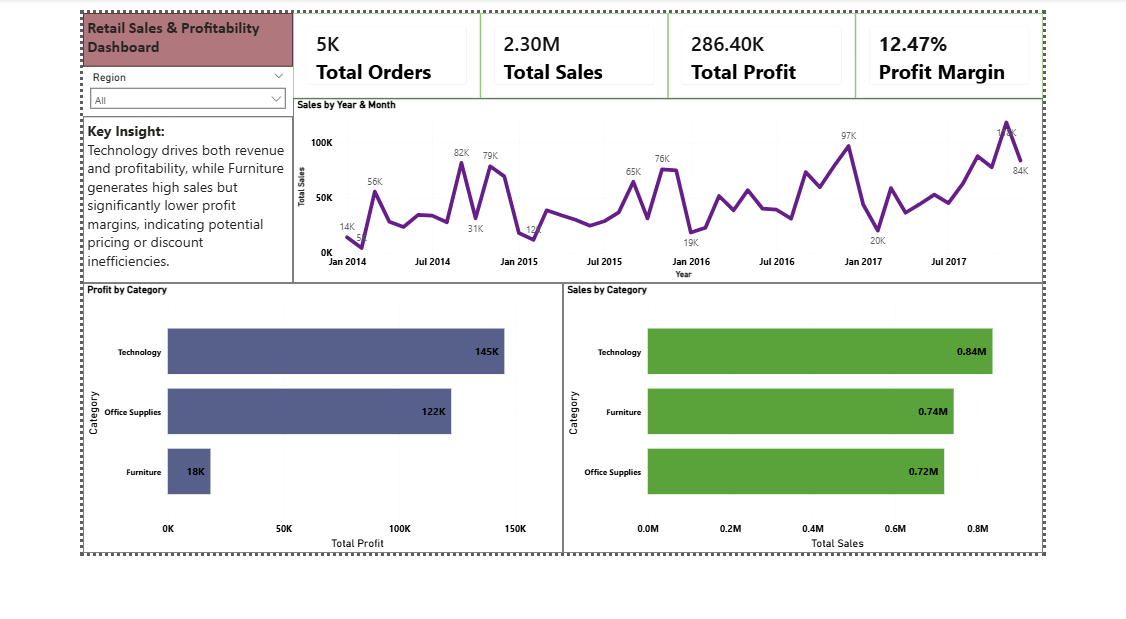

What the dashboard file says about the page in this screenshot:
{"tool":"powerbi","page":{"name":"Sales Overview","canvas":[1280,720],"ordinal":0},"visuals":[{"type":"cardVisual","fields":{"Data":["Superstore.Total Orders"]},"box":[280,0,250,114],"z":0},{"type":"cardVisual","fields":{"Data":["Superstore.Total Profit"]},"box":[780,0,250,114],"z":1000},{"type":"cardVisual","fields":{"Data":["Superstore.Total Sales"]},"box":[530,0,250,114],"z":2000},{"type":"cardVisual","fields":{"Data":["Superstore.Profit Margin"]},"box":[1030,0,250,114],"z":3000},{"type":"barChart","title":"Sales by Category","fields":{"Category":["Superstore.Category"],"Y":["Superstore.Total Sales"]},"box":[640,360,640,360],"z":4000},{"type":"barChart","title":"Profit by Category","fields":{"Category":["Superstore.Category"],"Y":["Superstore.Total Profit"]},"box":[0,360,640,360],"z":5000},{"type":"lineChart","title":"Sales by Year & Month","fields":{"Y":["Superstore.Total Sales"],"Category":["Superstore.Order Date.Variation.Date Hierarchy.Year","Superstore.Order Date.Variation.Date Hierarchy.Month"]},"box":[280,114,1000,246],"z":6000},{"type":"slicer","fields":{"Values":["Superstore.Region"]},"box":[0,72,280,66],"z":7000},{"type":"textbox","box":[0,0,279.9,71.2],"z":8000},{"type":"textbox","box":[0,138,280,222],"z":9000}]}

Visuals, with their boxes in screenshot pixels (x1, y1, x2, y2), scaled from the page's 1280x720 canvas onto the 1126x619 screenshot:
cardVisual - Superstore.Total Orders: bbox=[246, 0, 466, 98]
cardVisual - Superstore.Total Profit: bbox=[686, 0, 906, 98]
cardVisual - Superstore.Total Sales: bbox=[466, 0, 686, 98]
cardVisual - Superstore.Profit Margin: bbox=[906, 0, 1125, 98]
"Sales by Category" barChart: bbox=[563, 310, 1125, 618]
"Profit by Category" barChart: bbox=[0, 310, 563, 618]
"Sales by Year & Month" lineChart: bbox=[246, 98, 1125, 310]
slicer - Superstore.Region: bbox=[0, 62, 246, 119]
textbox: bbox=[0, 0, 246, 61]
textbox: bbox=[0, 119, 246, 310]
